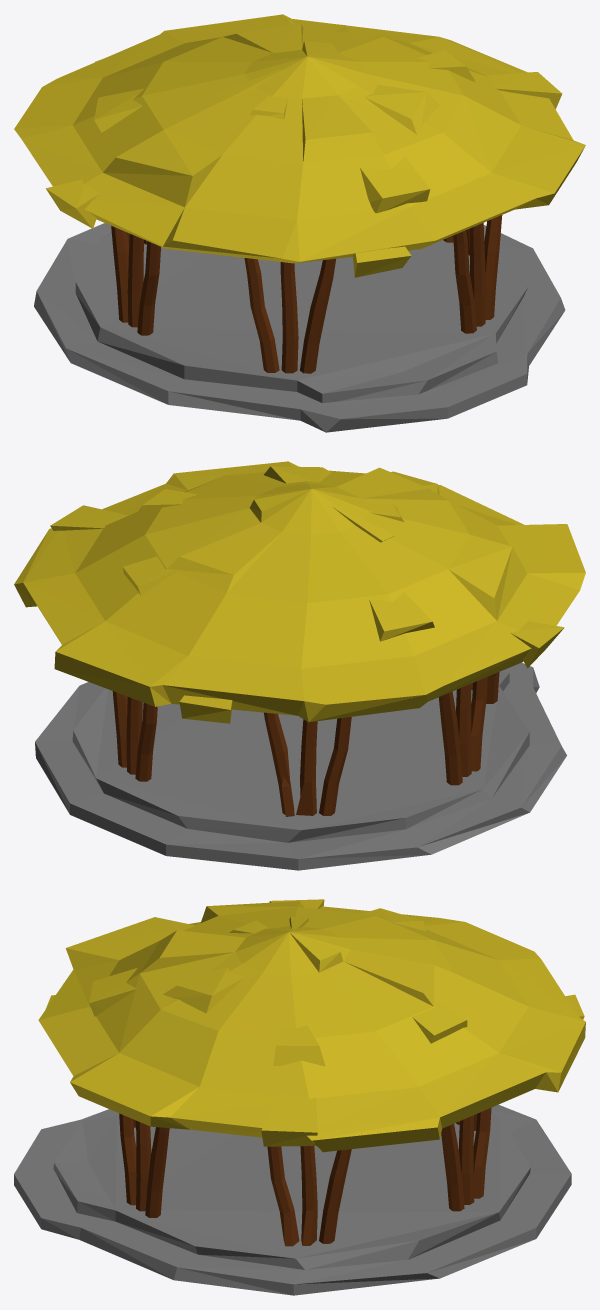
Rendered from WitchHouse.FBX.
3 views of the same model, one above another, from view 1: azimuth 30°, elevation 25°; view 2: azimuth 150°, elevation 25°; view 3: azimuth 270°, elevation 25° (orthographic). The views are drawn at different scales.
Parts seen in each view (by area): view 1: Cylinder001; view 2: Cylinder001; view 3: Cylinder001.
Part boxes in pixels (x1=…): Cylinder001: x1=14, y1=14, x2=585, y2=432; Cylinder001: x1=14, y1=461, x2=585, y2=870; Cylinder001: x1=14, y1=899, x2=585, y2=1295.
Bounding box in the file's own units: 17.03 × 8.63 × 17.52.
